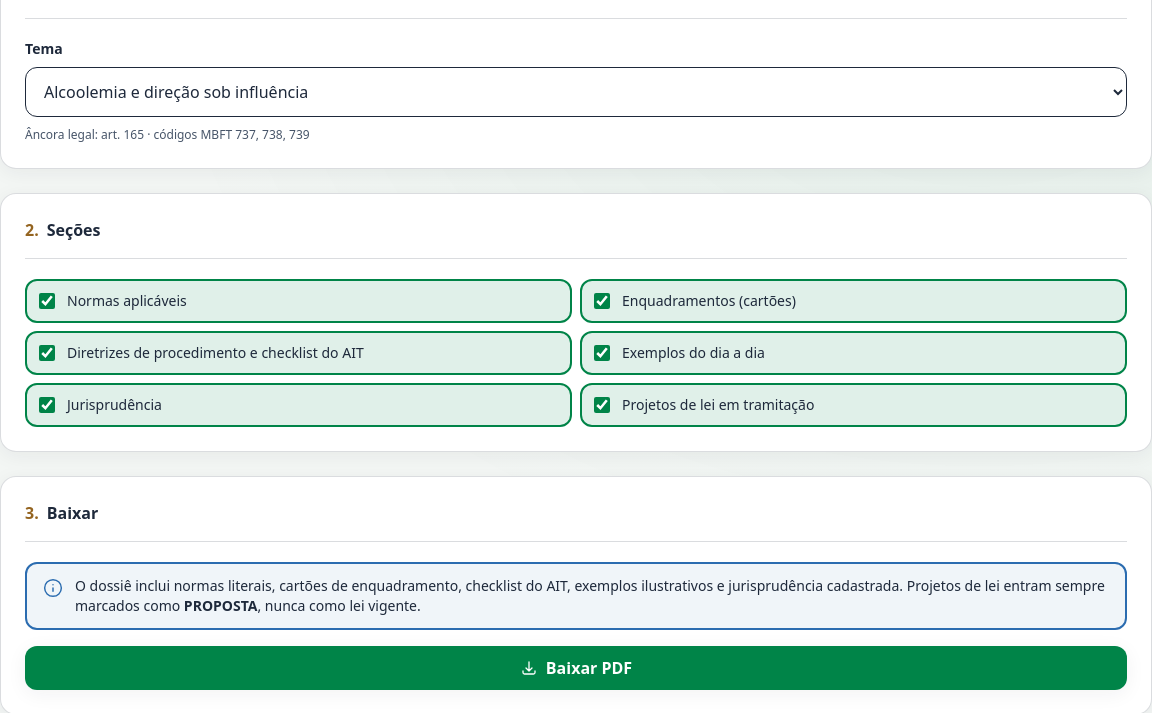
Test case: GerarPDFTab › shows the error message returned by the API
(page scrolled)
Click the button "Baixar PDF": (576, 668) [25,646,1127,690]
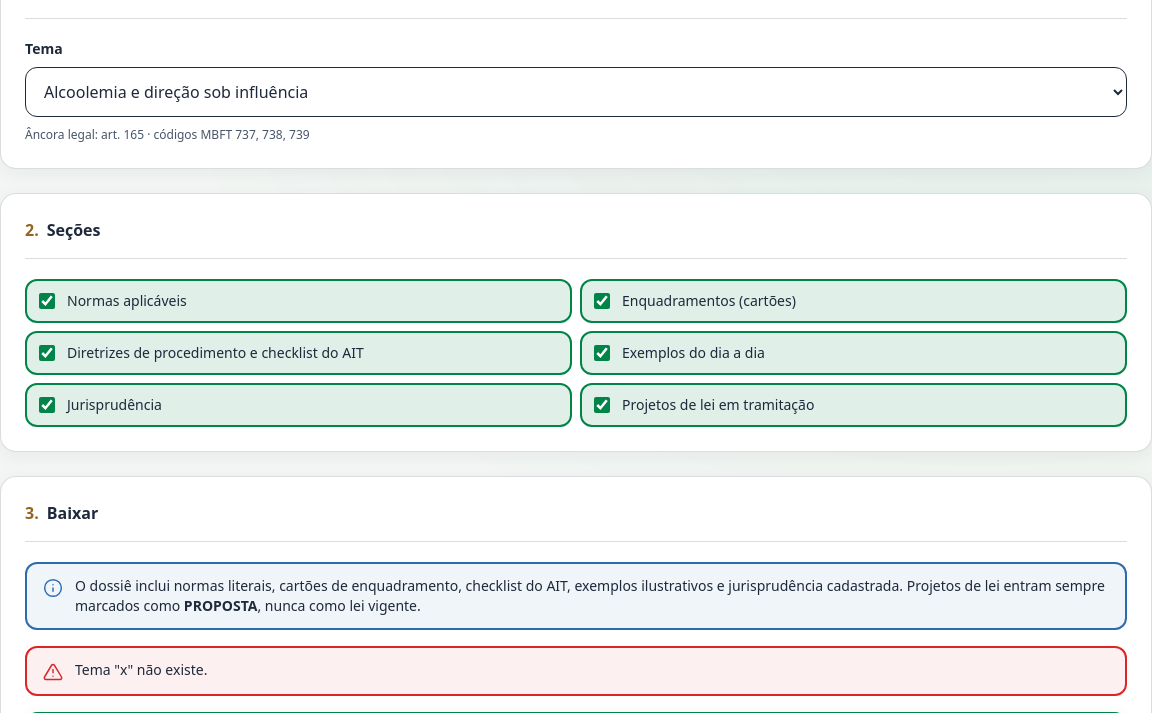
Now the message shows "não existe", box [75,660,207,679]
